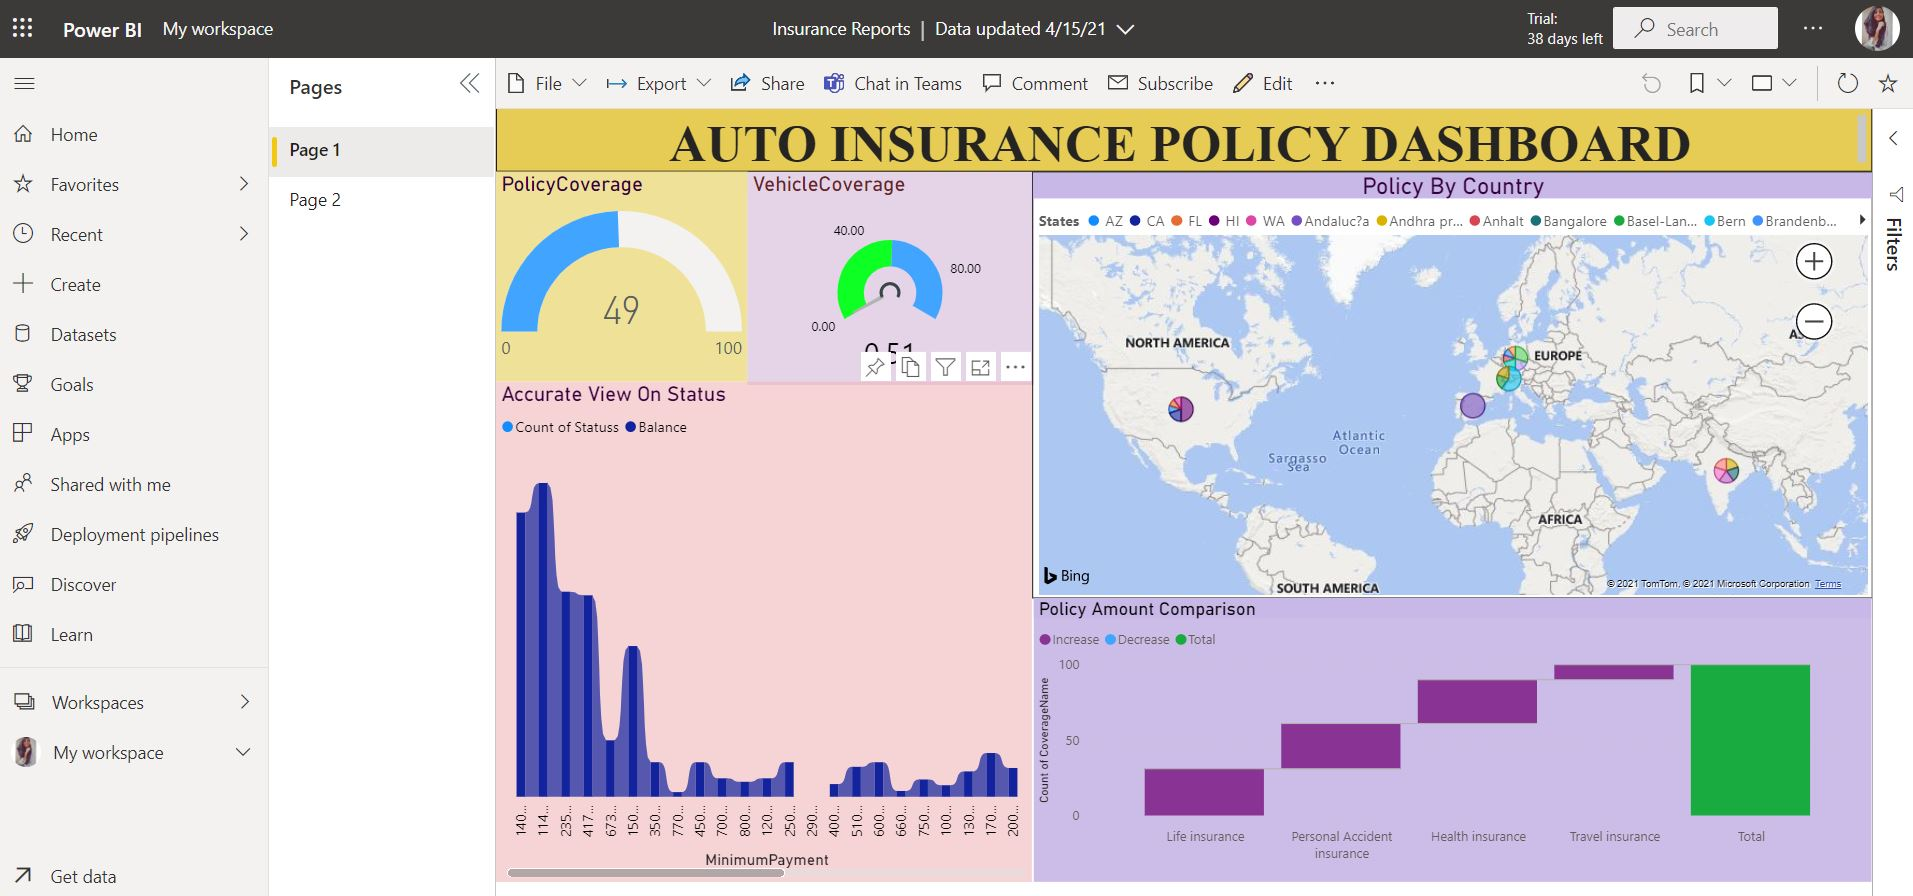

What the dashboard file says about the page in this screenshot:
{"tool":"powerbi","page":{"name":"Page 1","canvas":[1280,720],"ordinal":0},"visuals":[{"type":"textbox","box":[0,0,1280,59.1],"z":0},{"type":"gauge","title":"PolicyCoverage","fields":{"Y":["Sum(CoverageTable.IsPolicyCoverage)"],"MaxValue":["CountNonNull(CoverageTable.Code)"]},"box":[0,59.1,233.5,195],"z":1000},{"type":"Tachometer1474636471549","fields":{"Y":["Avg(CoverageTable.IsVehicleCoverage)"]},"box":[233.5,59.3,266.2,198.5],"z":2000},{"type":"ribbonChart","title":"Accurate View On  Status","fields":{"Category":["BillTable.MinimumPayment"],"Y":["CountNonNull(BillTable.Statuss)","Sum(BillTable.Balance)"]},"box":[0,254.1,498.5,465.6],"z":3000},{"type":"map","title":"Policy By Country","fields":{"Category":["DriverAddressTable.Country"],"Size":["CountNonNull(DriverAddressTable.ID)"],"Series":["DriverAddressTable.State"]},"box":[498.5,59.1,781.5,396.9],"z":4000},{"type":"waterfallChart","title":"Policy Amount Comparison","fields":{"Category":["CoverageTable.CoverageGroup"],"Y":["CountNonNull(CoverageTable.CoverageName)"]},"box":[500,456,780,264],"z":5000}]}

Visuals, with their boxes on the page's 1280x720 design canvas (x1, y1, x2, y2). These are canvas units, not pixel positions in the 1913x896 screenshot, which may show the page scaled, cropped or inside an application window:
textbox: region(0, 0, 1280, 59)
"PolicyCoverage" gauge: region(0, 59, 234, 254)
Tachometer1474636471549 - Avg(CoverageTable.IsVehicleCoverage): region(234, 59, 500, 258)
"Accurate View On  Status" ribbonChart: region(0, 254, 498, 720)
"Policy By Country" map: region(498, 59, 1280, 456)
"Policy Amount Comparison" waterfallChart: region(500, 456, 1280, 720)
